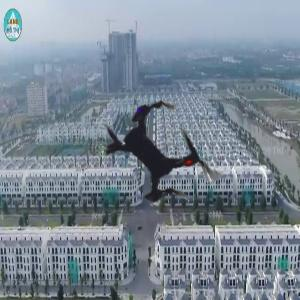drone: (67, 58, 255, 246)
